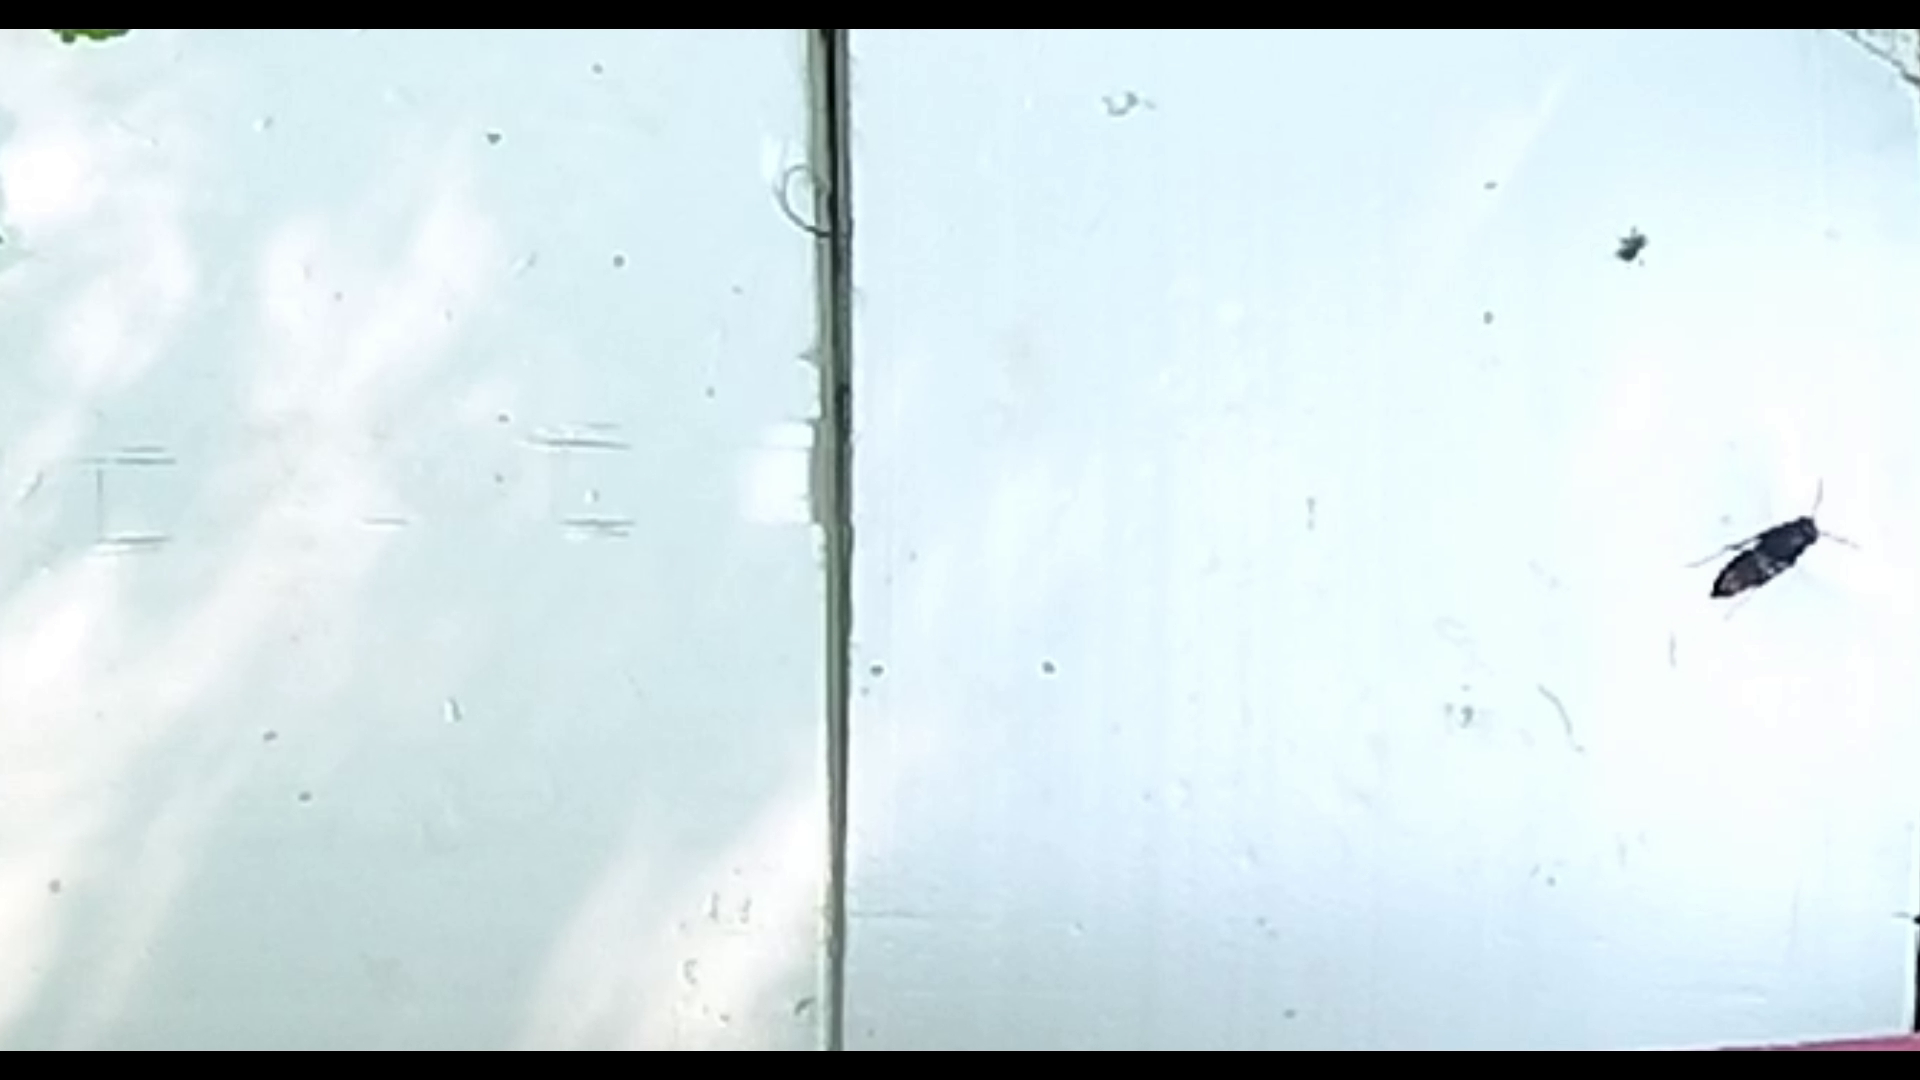Asian_hornets: (1677, 465, 1859, 618)
